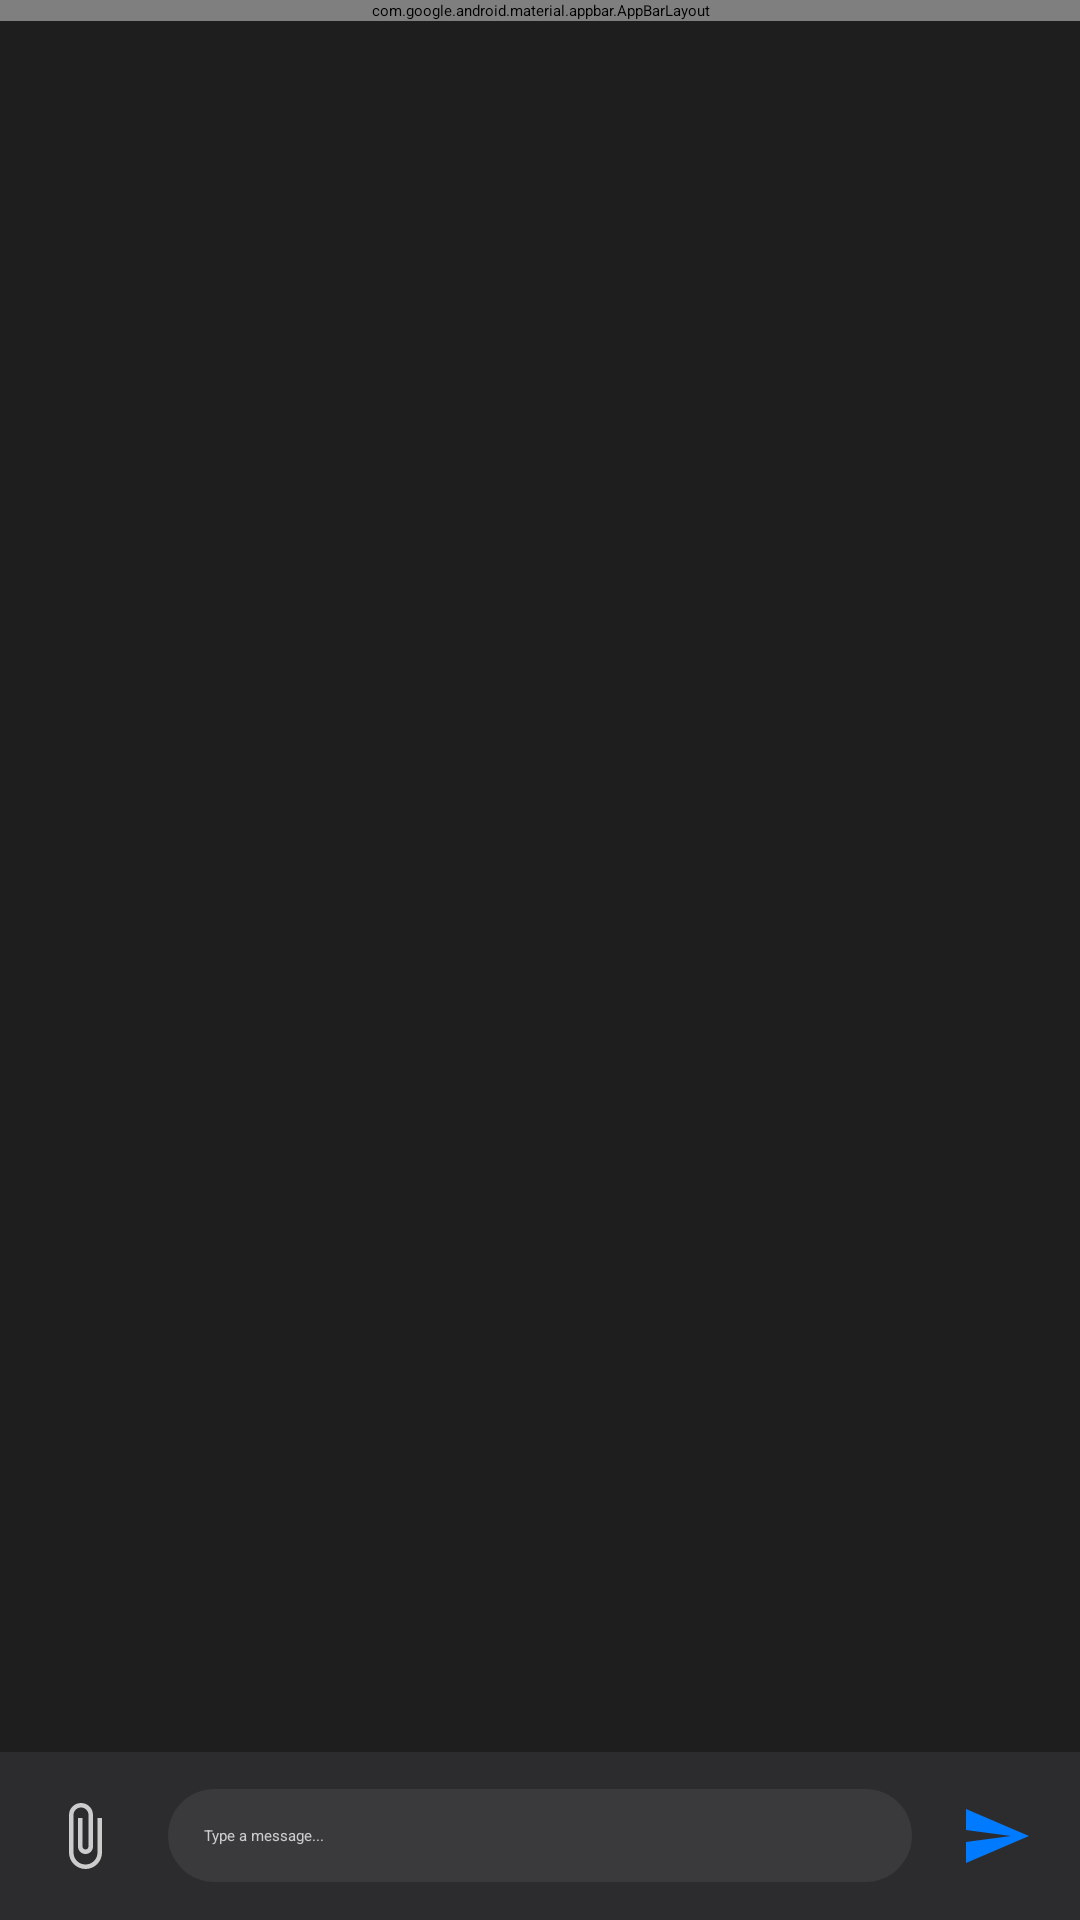

Locate icon controls on the screen. Image size 1080w x 1920h, boxes as (x1, y1, x2, y2).
attach file: (69, 1803, 102, 1869)
send: (966, 1809, 1029, 1863)
